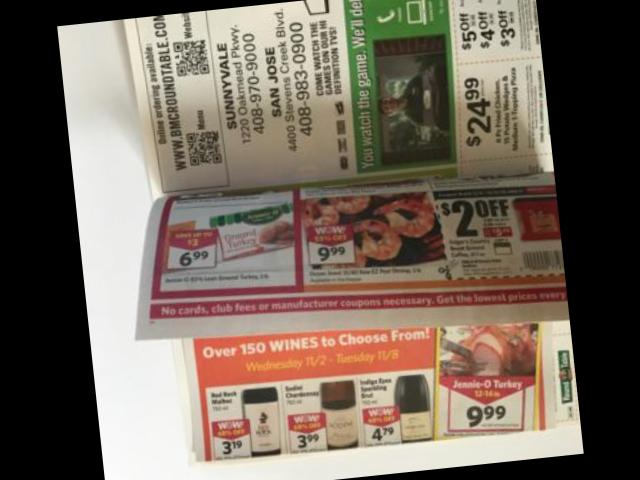cardboard paper: (123, 0, 582, 468)
